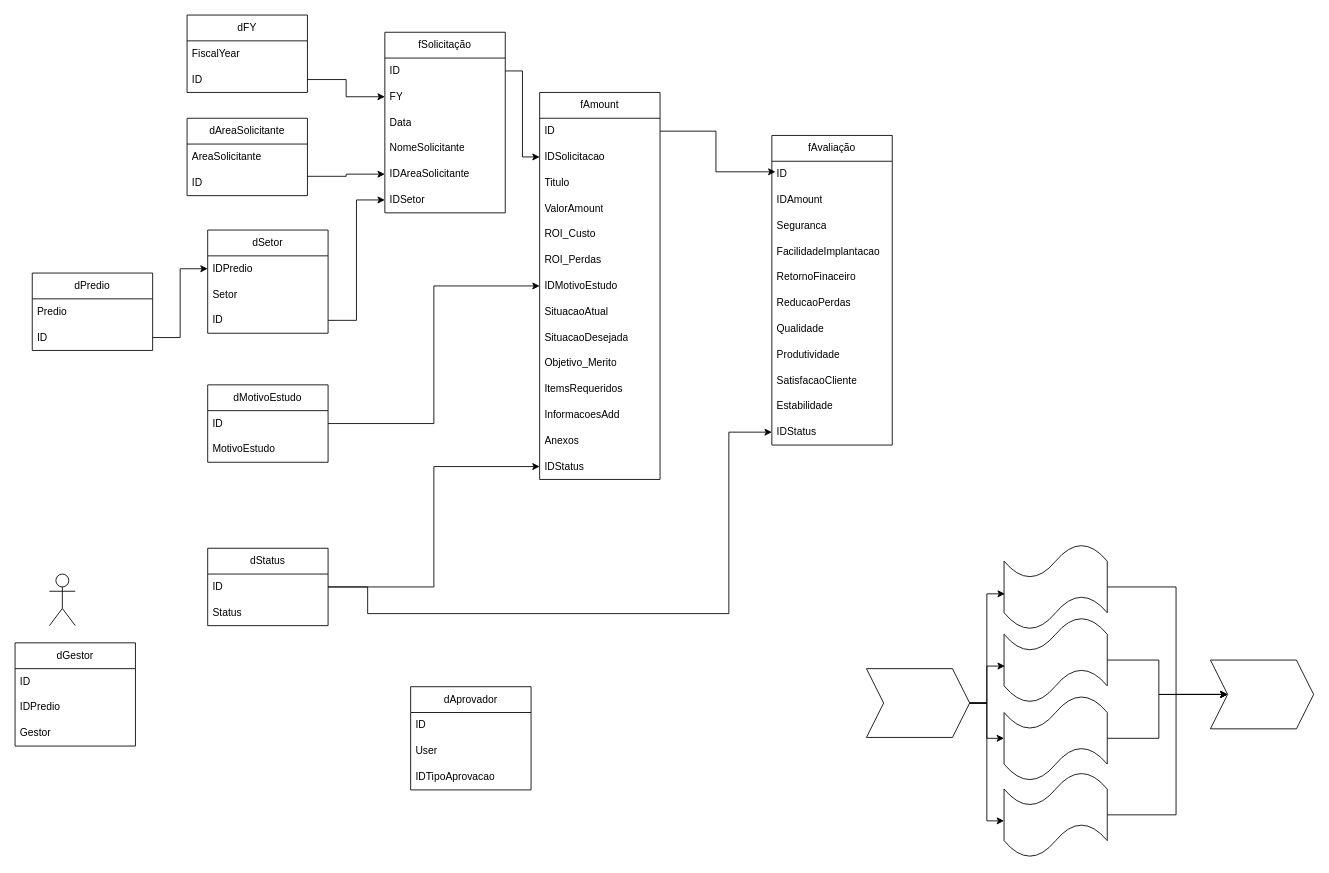
The diagram is 1329 pixels wide and 873 high, and some of its shapes have lost their labels. The centre of each missing label's shape, as x and y in pixels:
"Actor" goes at point (62, 599).
"Departamento" goes at point (1262, 694).
"Gestor de Melhoria" goes at point (918, 702).
